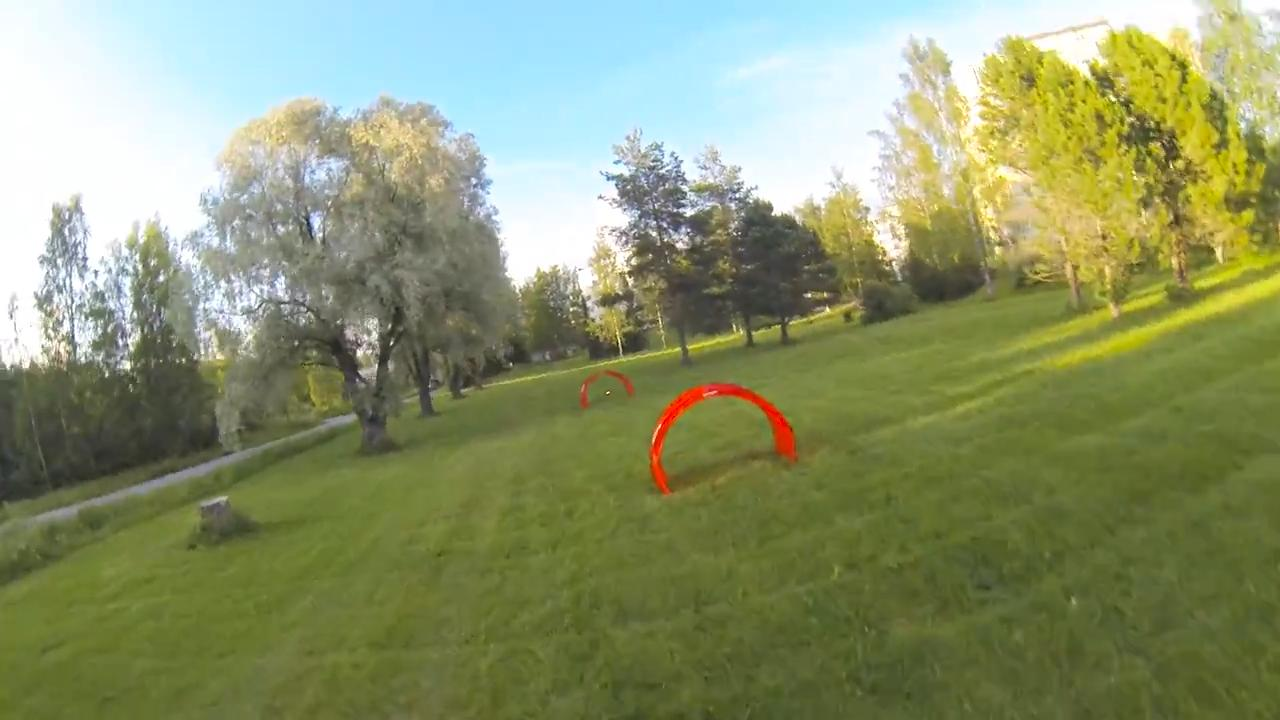gate: (641, 379, 798, 494)
